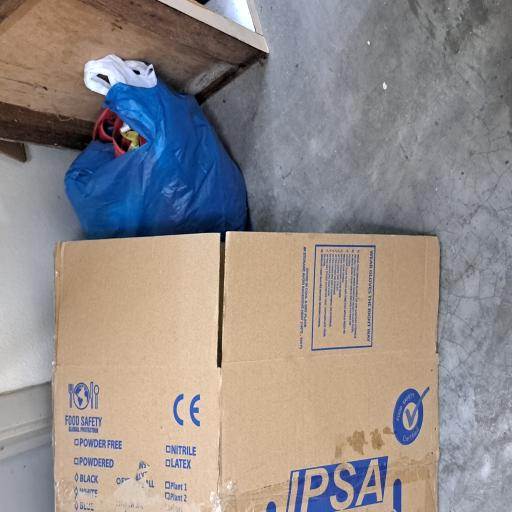cardboard: (0, 72, 210, 512)
plastic bag: (205, 84, 344, 334)
